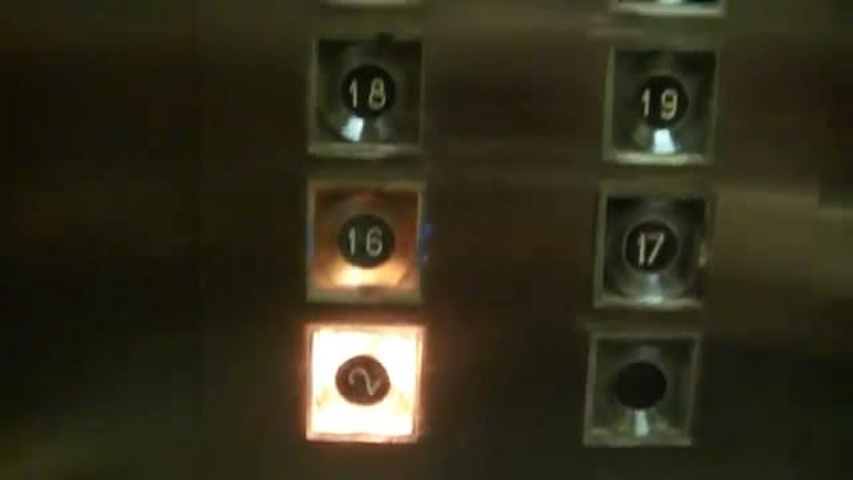16: (299, 172, 427, 303)
17: (589, 177, 714, 315)
18: (303, 28, 428, 160)
19: (599, 38, 722, 169)
2: (302, 319, 428, 449)
empty: (584, 329, 703, 449)
